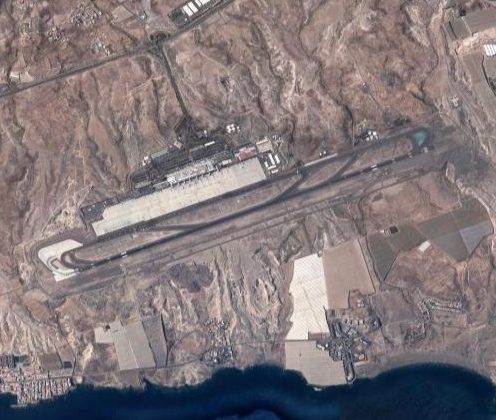airport: (37, 124, 437, 284)
harbor: (3, 368, 73, 411)
motorway: (63, 49, 125, 74), (122, 31, 184, 56), (1, 72, 62, 97), (179, 1, 226, 32), (160, 57, 187, 109)
